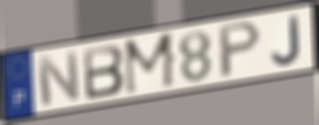8: (176, 27, 214, 85)
B: (81, 42, 126, 102)
J: (270, 13, 303, 67)
M: (123, 30, 178, 98)
N: (34, 49, 83, 109)
P: (218, 19, 264, 81)
